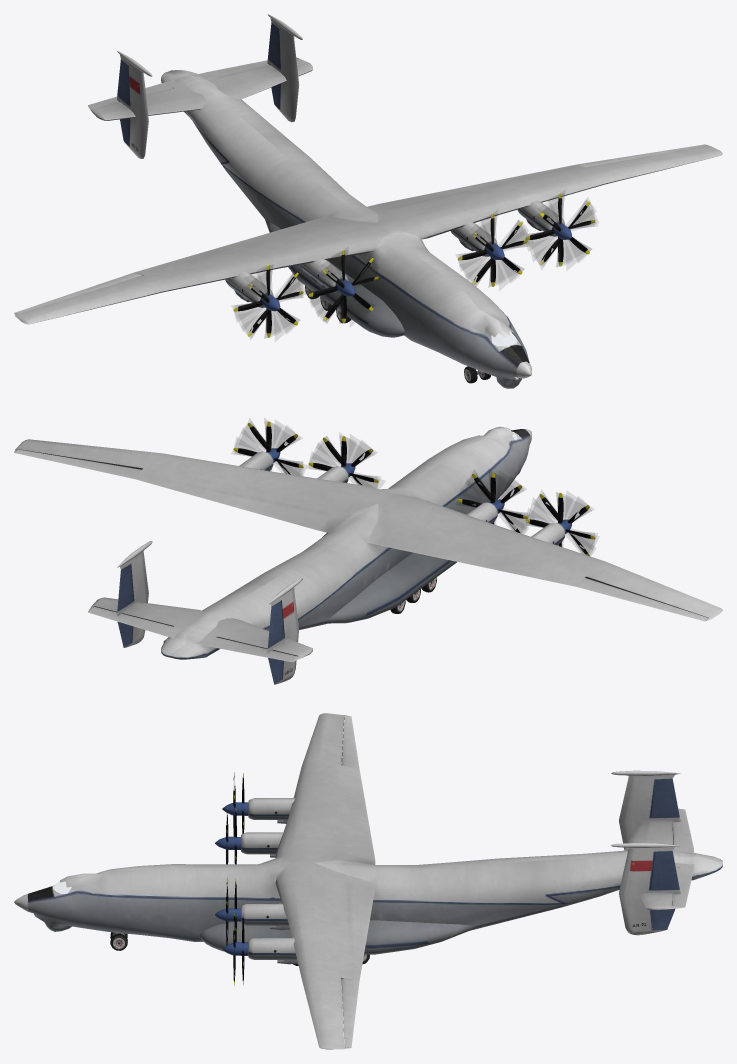
File: transport_an22.glb
3 renders of one model, top to bottom at view 1: azimuth 30°, elevation 25°; view 2: azimuth 150°, elevation 25°; view 3: azimuth 270°, elevation 25°, orthographic.
Parts seen in each view (by area): view 1: bolDE1; view 2: bolDE1; view 3: bolDE1.
Boxes of the visible parts, bbox=[...] form: bolDE1: bbox=[14, 14, 722, 388]; bolDE1: bbox=[14, 418, 722, 684]; bolDE1: bbox=[14, 713, 722, 1049].
Bounding box in the file's own units: 64.78 × 12.59 × 57.9.
2 materials, 2 textured.
